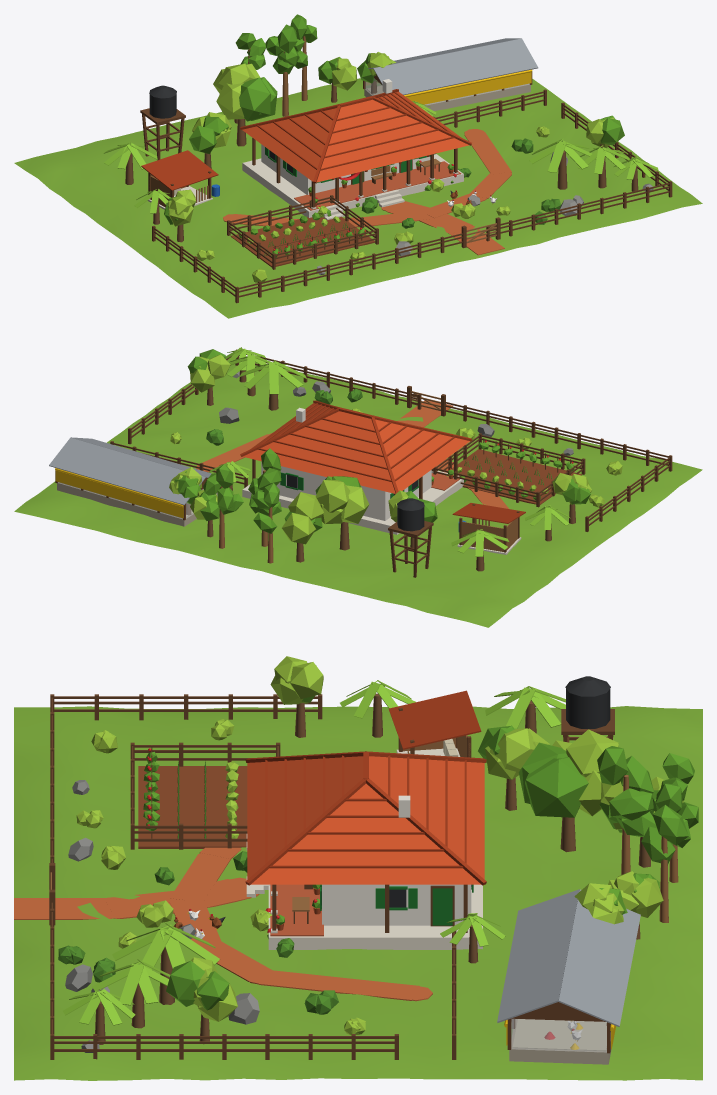
Rendered from granja-colombiana-low-poly.glb.
3 views of the same model, one above another, from view 1: azimuth 30°, elevation 25°; view 2: azimuth 150°, elevation 25°; view 3: azimuth 270°, elevation 25° (orthographic). The views are drawn at different scales.
Parts seen in each view (by area): view 1: suelo_pasto, techo_teja, techo_lamina (×2), copa (×6), tramo_camino (×5), cama_tierra, piso_corredor, zocalo_base, techo_bodega, cortina_amarilla, cuerpo_paredes, muro_bloque (+1 smaller); view 2: suelo_pasto, techo_teja, techo_lamina (×2), copa (×4), cama_tierra, cuerpo_paredes, cortina_amarilla, tramo_camino (×2), muro_bloque, zocalo_base, techo_bodega, pared_trasera (+1 smaller); view 3: suelo_pasto, techo_teja, copa (×15), techo_lamina (×2), tramo_camino (×7), cama_tierra, zocalo_base, cuerpo_paredes, techo_bodega, malla_frontal, piso_galpon, piso_corredor (+8 smaller).
Boxes of the visible parts, x1=… form: suelo_pasto: x1=14, y1=78, x2=702, y2=318; techo_teja: x1=242, y1=91, x2=468, y2=182; techo_lamina (×2): x1=368, y1=38, x2=538, y2=94; copa (×6): x1=189, y1=63, x2=624, y2=153; tramo_camino (×5): x1=363, y1=132, x2=511, y2=255; cama_tierra: x1=230, y1=216, x2=375, y2=267; piso_corredor: x1=294, y1=161, x2=461, y2=210; zocalo_base: x1=242, y1=154, x2=463, y2=217; techo_bodega: x1=141, y1=150, x2=218, y2=190; cortina_amarilla: x1=406, y1=72, x2=531, y2=104; cuerpo_paredes: x1=261, y1=144, x2=430, y2=194; muro_bloque: x1=364, y1=84, x2=530, y2=111; suelo_pasto: x1=14, y1=356, x2=702, y2=627; techo_teja: x1=243, y1=403, x2=469, y2=493; techo_lamina (×2): x1=49, y1=437, x2=211, y2=505; copa (×4): x1=282, y1=480, x2=369, y2=544; cama_tierra: x1=447, y1=449, x2=581, y2=504; cuerpo_paredes: x1=261, y1=461, x2=431, y2=520; cortina_amarilla: x1=55, y1=470, x2=183, y2=518; tramo_camino (×2): x1=202, y1=400, x2=452, y2=470; muro_bloque: x1=57, y1=482, x2=196, y2=526; zocalo_base: x1=242, y1=479, x2=463, y2=534; techo_bodega: x1=452, y1=503, x2=525, y2=523; pared_trasera: x1=461, y1=521, x2=506, y2=551; suelo_pasto: x1=14, y1=706, x2=702, y2=1080; techo_teja: x1=247, y1=756, x2=484, y2=884; copa (×15): x1=166, y1=662, x2=694, y2=1010; techo_lamina (×2): x1=497, y1=889, x2=640, y2=1026; tramo_camino (×7): x1=14, y1=854, x2=419, y2=1000; cama_tierra: x1=138, y1=766, x2=247, y2=848; zocalo_base: x1=268, y1=884, x2=482, y2=949; cuerpo_paredes: x1=322, y1=884, x2=471, y2=925; techo_bodega: x1=389, y1=690, x2=481, y2=749; malla_frontal: x1=511, y1=1018, x2=606, y2=1052; piso_galpon: x1=512, y1=1019, x2=606, y2=1051; piso_corredor: x1=270, y1=884, x2=323, y2=936.
Size of the model in its own units: 46 by 9.08 by 36.
